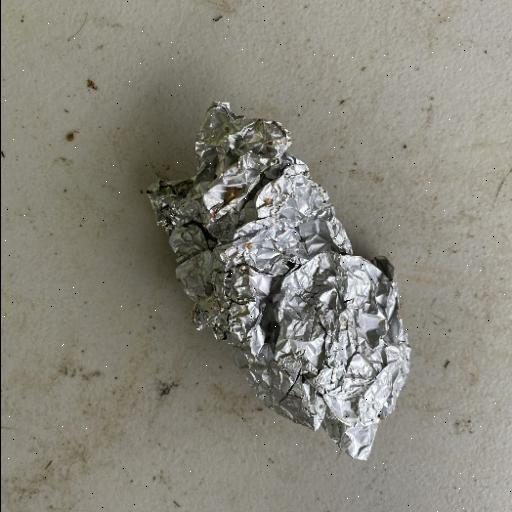Metal: (143, 99, 413, 461)
